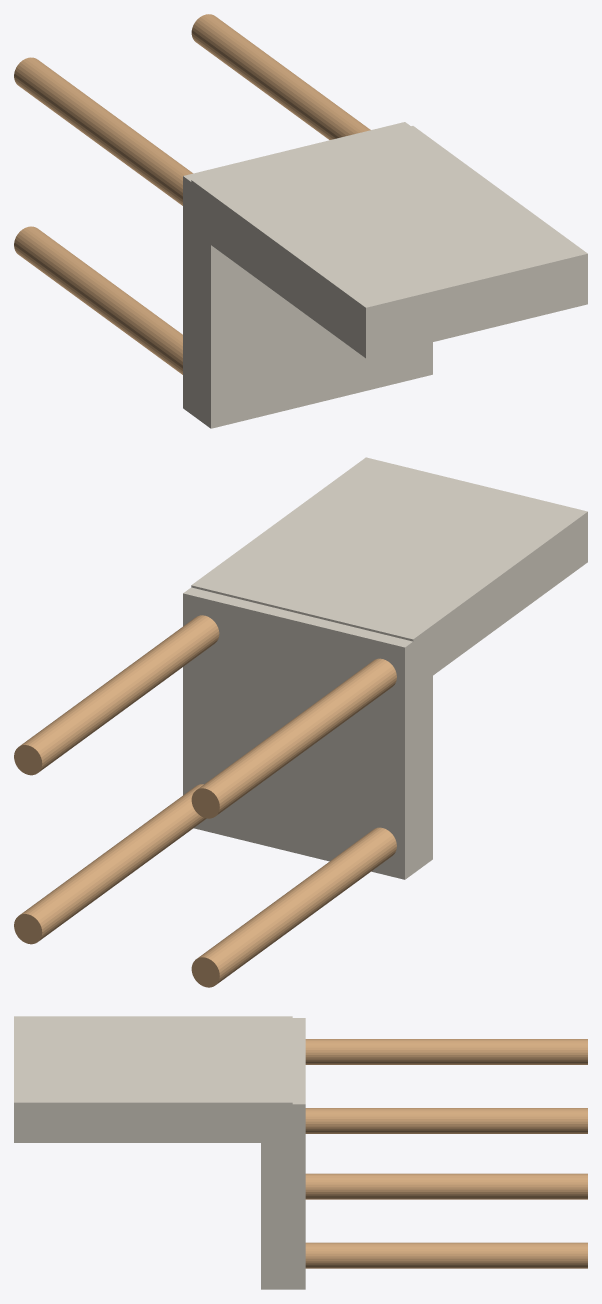
The model's file is dining-chairs.glb.
3 views of the same model, one above another, from view 1: azimuth 30°, elevation 25°; view 2: azimuth 150°, elevation 25°; view 3: azimuth 270°, elevation 25° (orthographic). The views are drawn at different scales.
Visible parts, largest first — view 1: Back, Seat, world, Leg; view 2: Seat, Back, world, Leg; view 3: Back, world, Seat, Leg.
Part boxes in pixels (x1,y1,x2,y2): Back: (191,126,587,358); Seat: (183,122,432,428); world: (14,57,192,374); Leg: (191,14,370,139); Seat: (183,587,432,879); Back: (191,457,587,689); world: (14,658,396,987); Leg: (14,615,219,775); Back: (14,1016,292,1142); world: (305,1039,587,1268); Seat: (261,1018,305,1289); Leg: (305,1108,587,1133).
Size of the model in its own units: 0.55 by 0.555 by 1.55.
